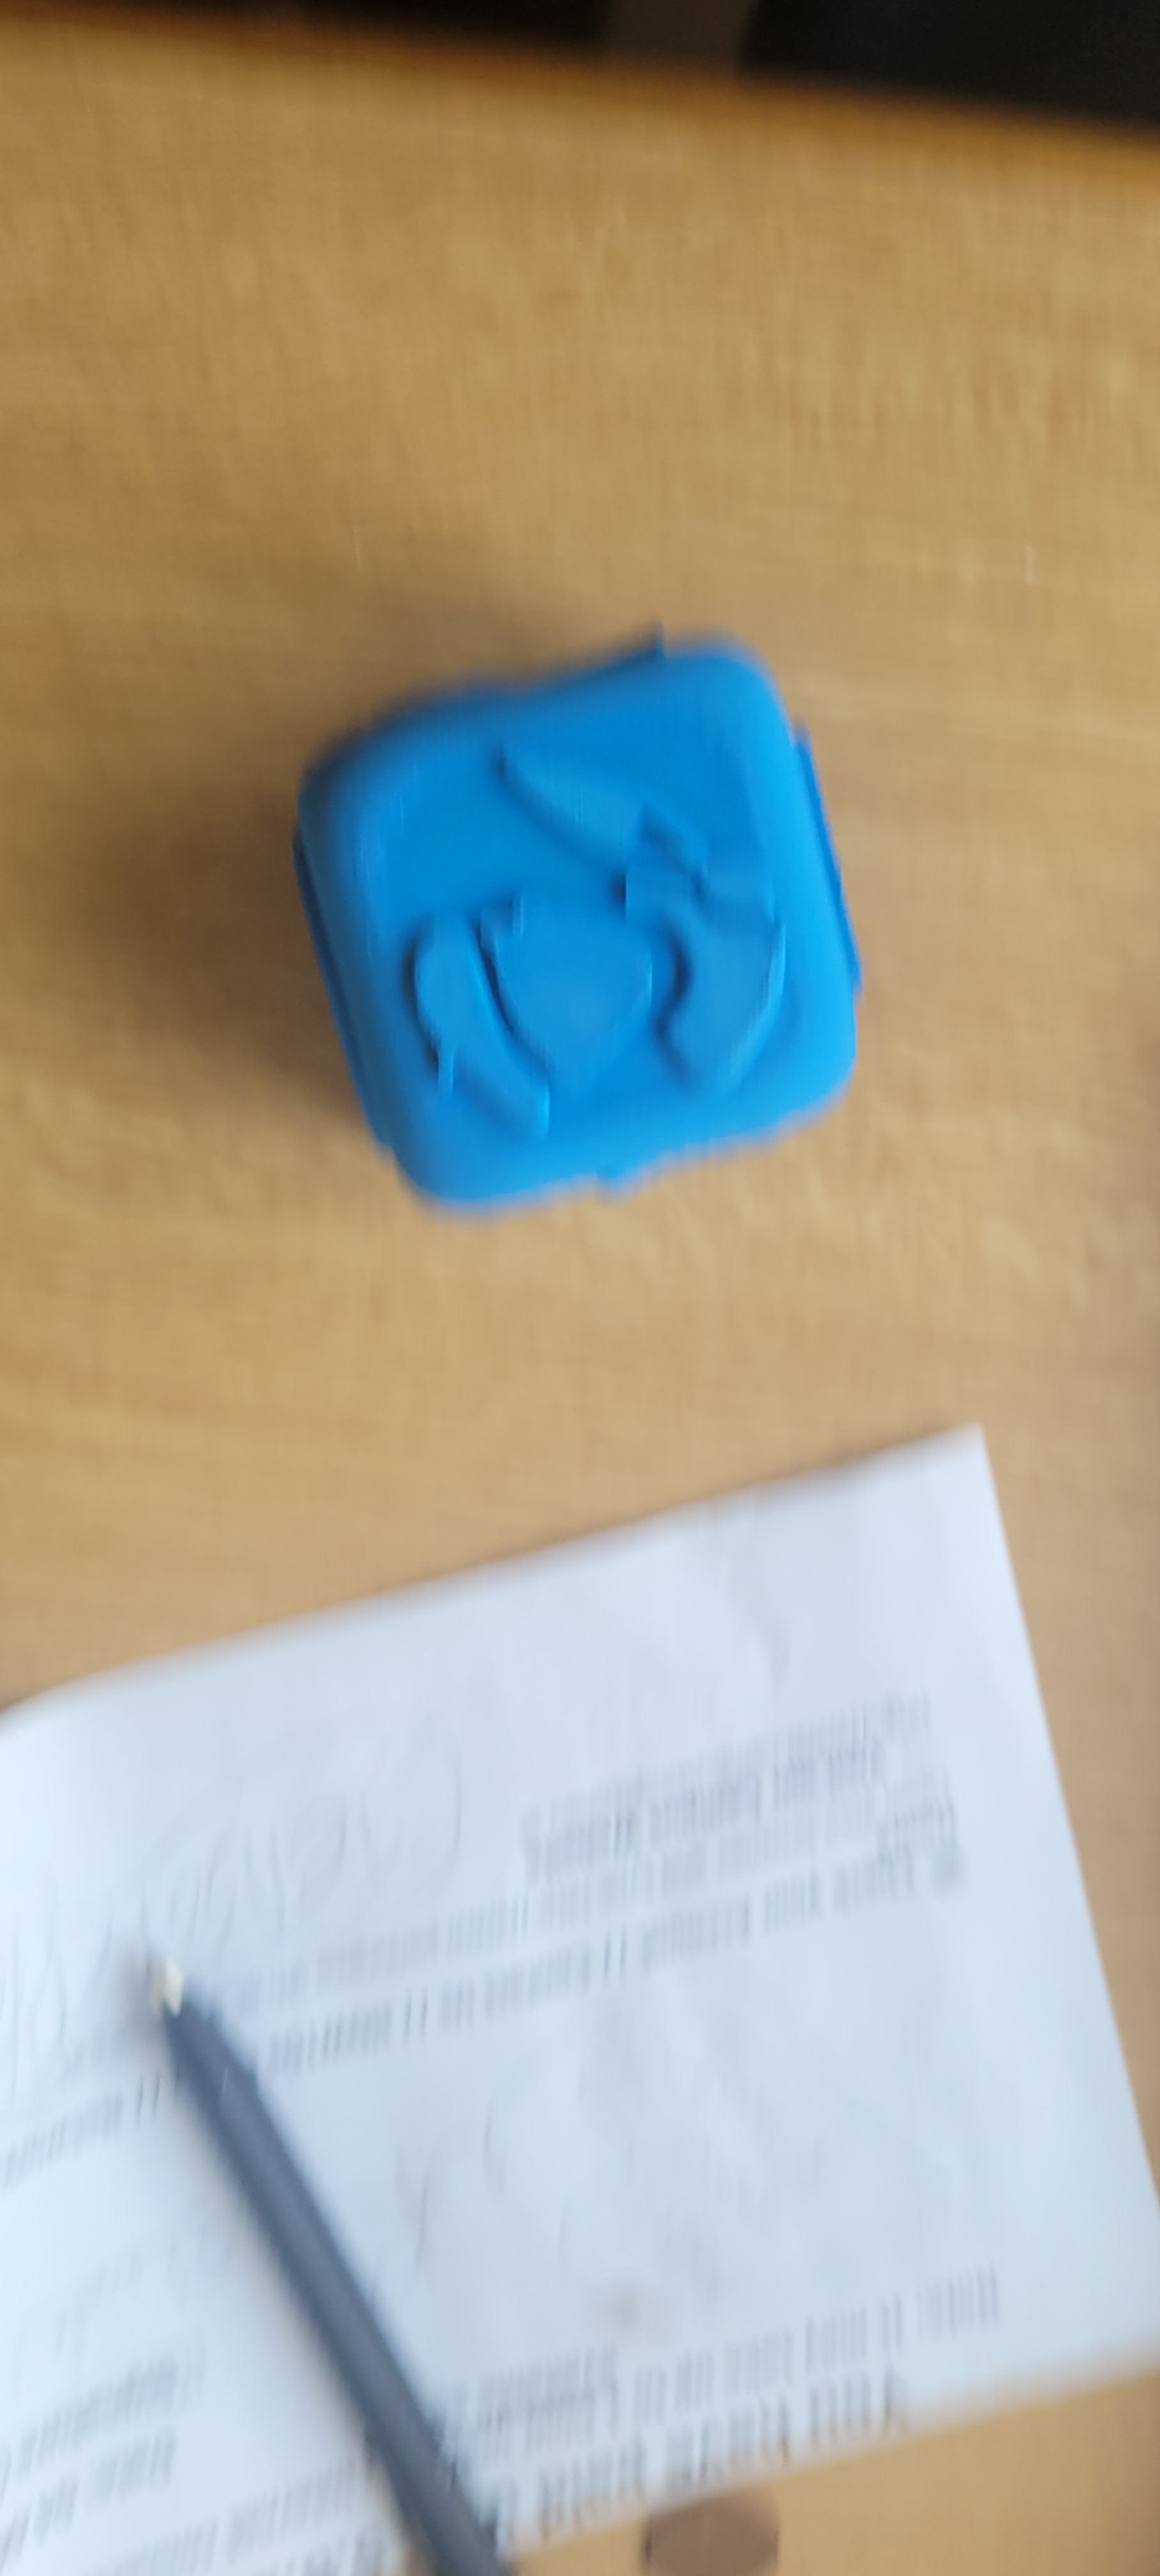Artist_Info: (350, 609, 914, 1119)
